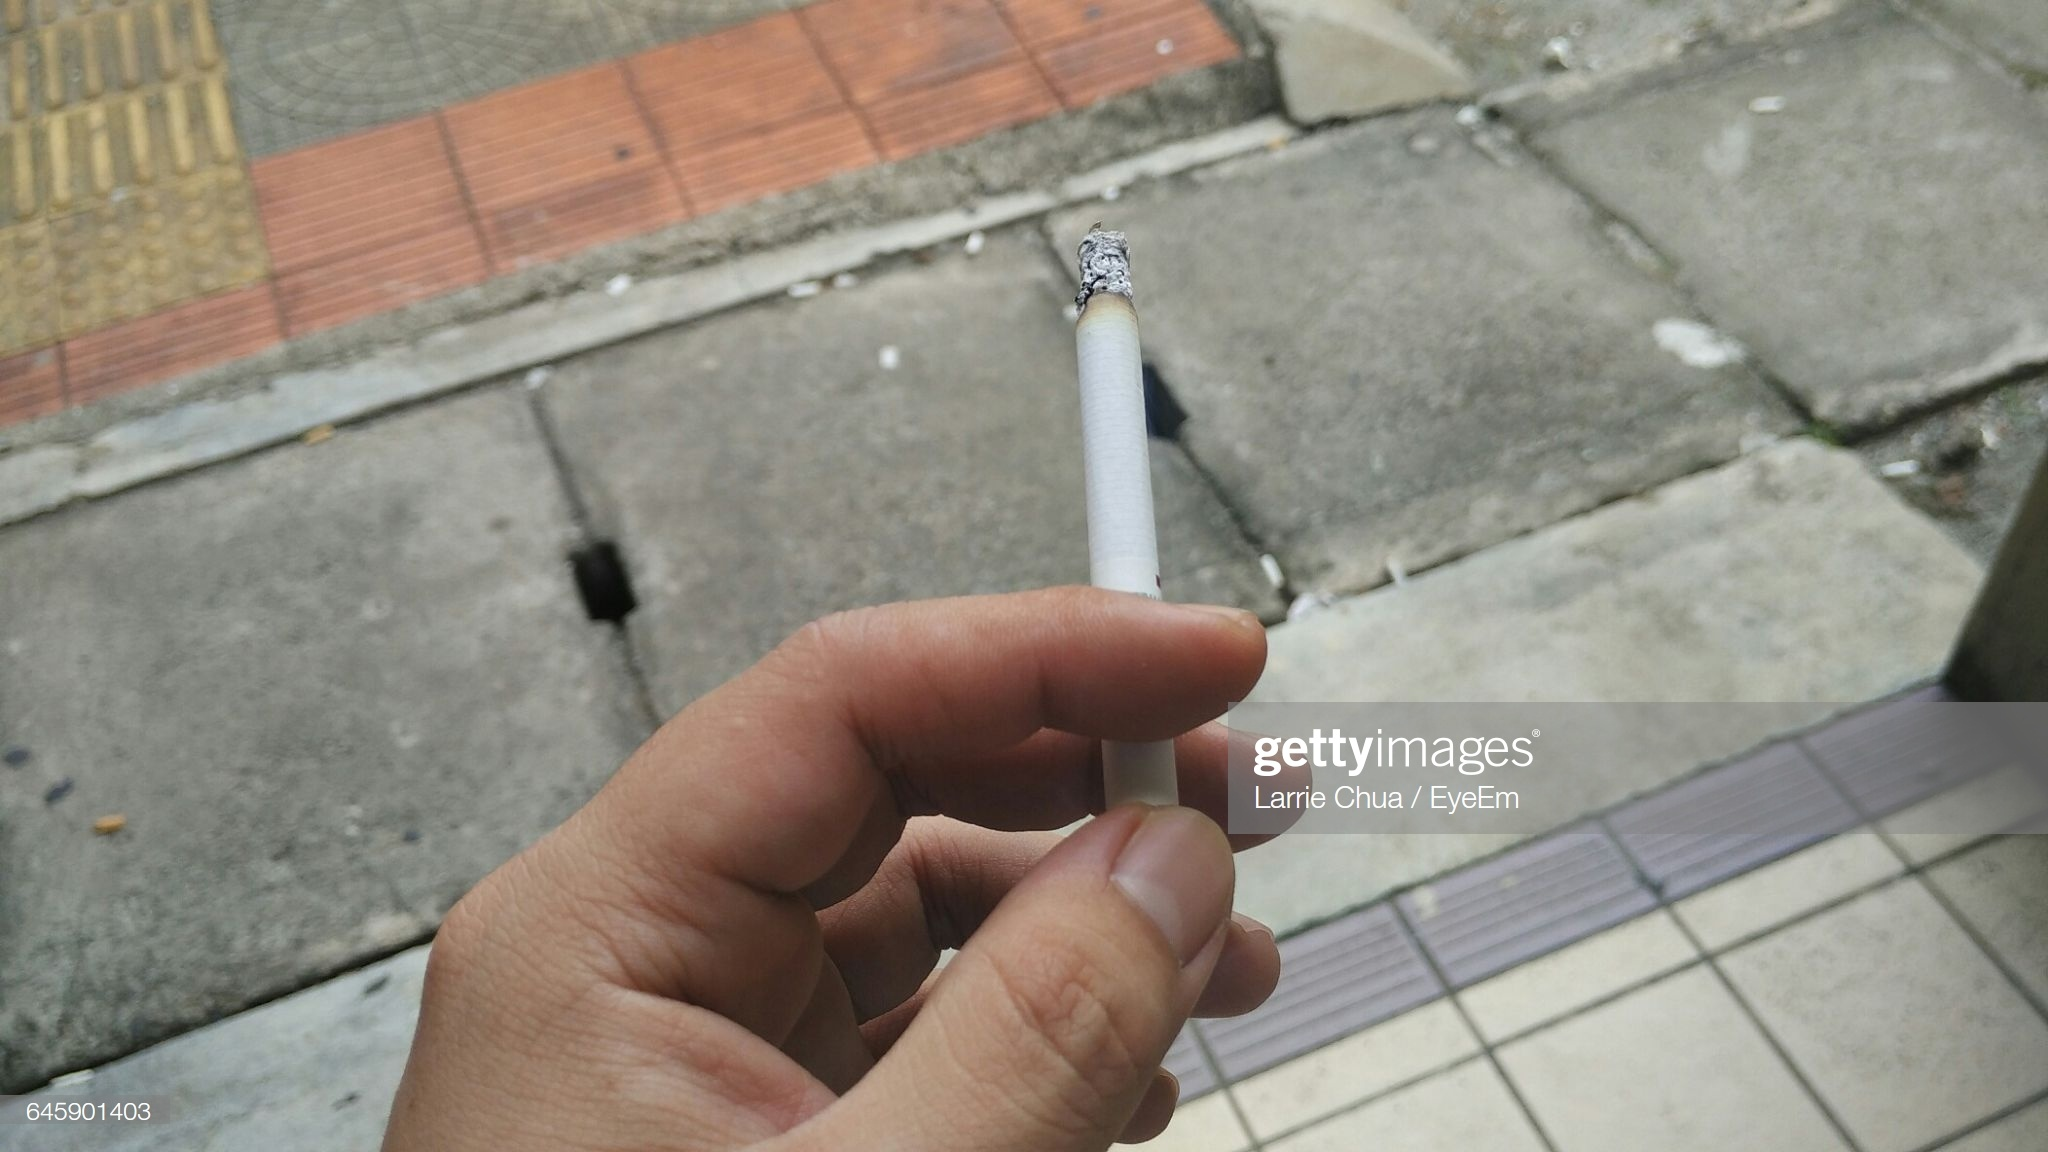sigaretta: (1039, 228, 1189, 831)
